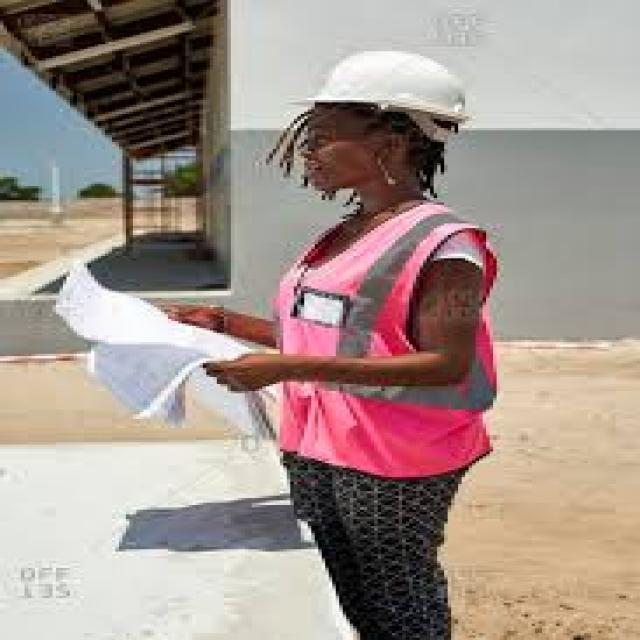reflective_jacket: (237, 200, 514, 486)
safety_helmet: (286, 37, 496, 137)
